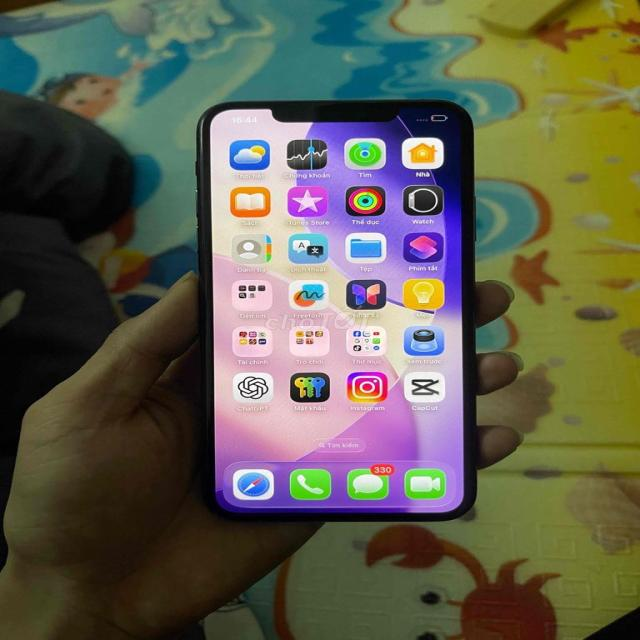gen_11: (197, 99, 475, 520)
